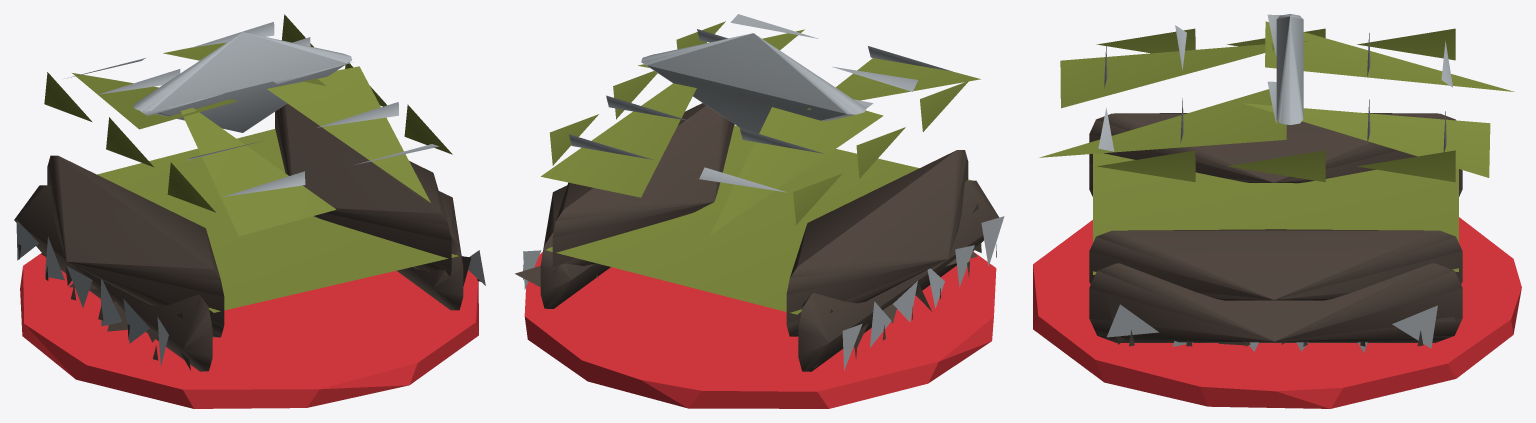
The model's file is india_engineer_lod1.glb.
3 views of the same model, side by side, from view 1: azimuth 30°, elevation 25°; view 2: azimuth 150°, elevation 25°; view 3: azimuth 270°, elevation 25° (orthographic). The views are drawn at different scales.
Parts seen in each view (by area): view 1: body_hull, base_pedestal; view 2: body_hull, base_pedestal; view 3: body_hull, base_pedestal.
Boxes of the visible parts, bbox=[...] form: body_hull: bbox=[14, 14, 485, 371]; base_pedestal: bbox=[20, 253, 478, 408]; body_hull: bbox=[515, 14, 1004, 371]; base_pedestal: bbox=[524, 251, 996, 408]; body_hull: bbox=[1039, 14, 1514, 352]; base_pedestal: bbox=[1033, 217, 1521, 408].
Bounding box in the file's own units: 0.7762 × 0.5074 × 0.7751.
